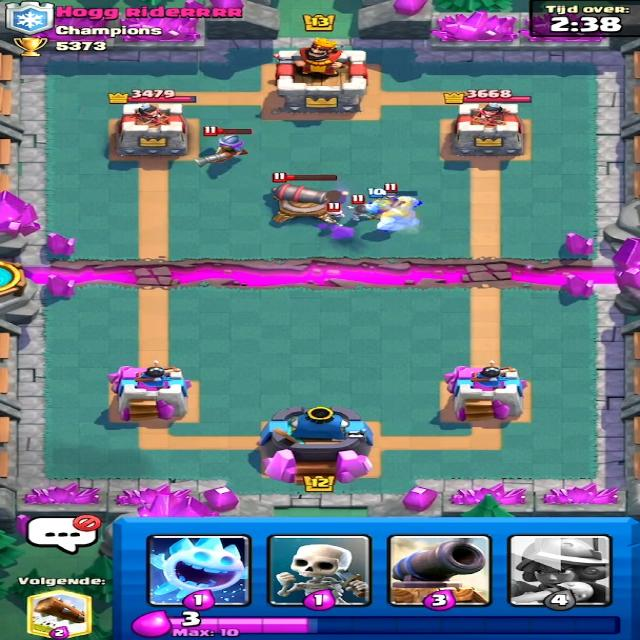Cannon_Card: (388, 538, 488, 608)
Enemy_Cannon_Troop: (268, 184, 342, 226)
Enemy_Musketeer_Troop: (186, 128, 254, 172)
Enemy_Skeleton_Troop: (321, 207, 343, 229), (350, 204, 372, 222)
Ice_Golem_Troop: (373, 194, 432, 237)
Ice_Spirit_Card: (145, 532, 250, 607)
Musketeer_Card: (510, 537, 599, 607)
Skeleton_Card: (266, 532, 374, 606)
